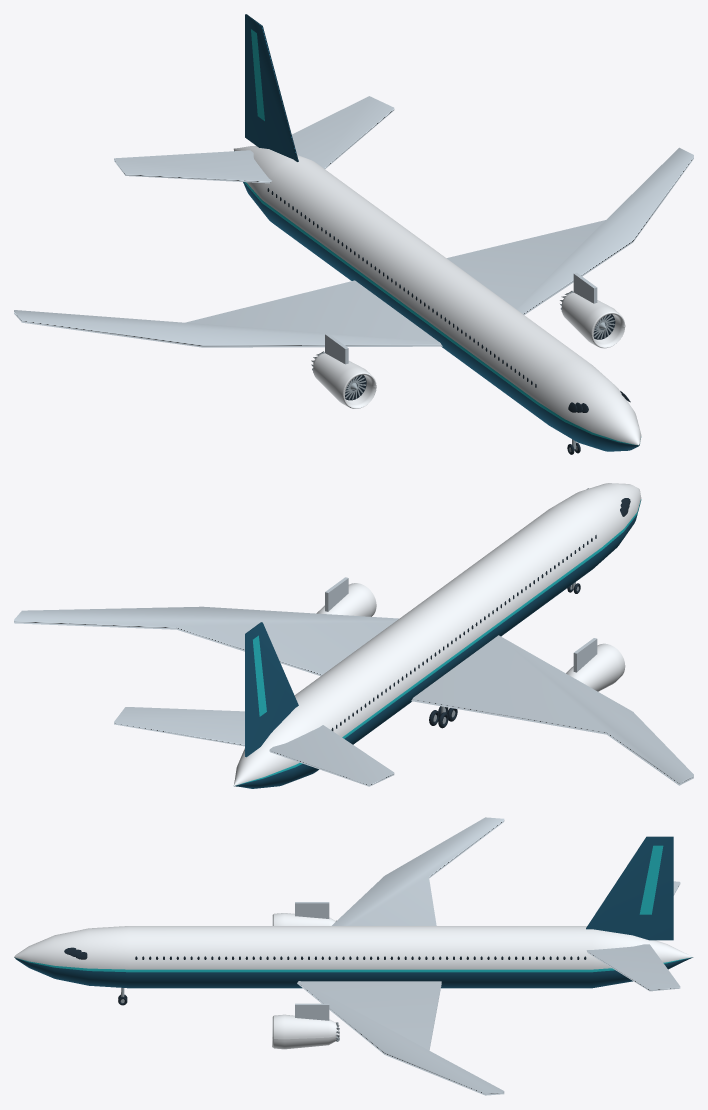
3 renders of one model, top to bottom at view 1: azimuth 30°, elevation 25°; view 2: azimuth 150°, elevation 25°; view 3: azimuth 270°, elevation 25°, orthographic. The views are drawn at different scales.
Visible parts, largest first — view 1: Fuselage_white, WingRight_wing, WingLeft_wing, Fuselage_paint, VerticalTail_paint, HorizontalTailRight_wing, HorizontalTailLeft_wing, EngineLeft_white, EngineRight_white, Fuselage_accent; view 2: Fuselage_white, WingRight_wing, WingLeft_wing, Fuselage_paint, VerticalTail_paint, HorizontalTailRight_wing, HorizontalTailLeft_wing, EngineRight_white, Fuselage_accent, EngineLeft_white, VerticalTail_accent, CabinWindows_dark (+2 smaller); view 3: Fuselage_white, Fuselage_paint, WingLeft_wing, WingRight_wing, VerticalTail_paint, HorizontalTailLeft_wing, Fuselage_accent, EngineLeft_white, VerticalTail_accent, EngineRight_white, CabinWindows_dark, EngineLeft_wing (+1 smaller).
Boxes of the visible parts, x1,y1,x2,y2 form: Fuselage_white: (233,146,641,445); WingRight_wing: (14,280,442,347); WingLeft_wing: (447,147,693,314); Fuselage_paint: (243,182,639,451); VerticalTail_paint: (245,14,298,161); HorizontalTailRight_wing: (114,150,271,183); HorizontalTailLeft_wing: (292,96,394,168); EngineLeft_white: (562,292,625,348); EngineRight_white: (313,353,376,408); Fuselage_accent: (244,182,641,445); Fuselage_white: (233,483,641,785); WingRight_wing: (411,635,693,785); WingLeft_wing: (14,606,398,676); Fuselage_paint: (234,500,641,788); VerticalTail_paint: (245,622,298,757); HorizontalTailRight_wing: (269,725,394,786); HorizontalTailLeft_wing: (114,707,244,746); EngineRight_white: (566,643,625,691); Fuselage_accent: (237,499,641,785); EngineLeft_white: (316,583,376,616); VerticalTail_accent: (253,635,266,716); CabinWindows_dark: (331,535,596,730); Fuselage_white: (14,926,693,969); Fuselage_paint: (14,957,692,988); WingLeft_wing: (297,981,504,1095); WingRight_wing: (332,817,504,925); VerticalTail_paint: (586,836,673,940); HorizontalTailLeft_wing: (586,944,680,991); Fuselage_accent: (16,957,690,972); EngineLeft_white: (272,1014,336,1049); VerticalTail_accent: (639,845,663,914); EngineRight_white: (272,913,335,925); CabinWindows_dark: (135,956,586,959); EngineLeft_wing: (295,1003,329,1020).
Size of the model in its own units: 60.12 by 17.02 by 62.81.
